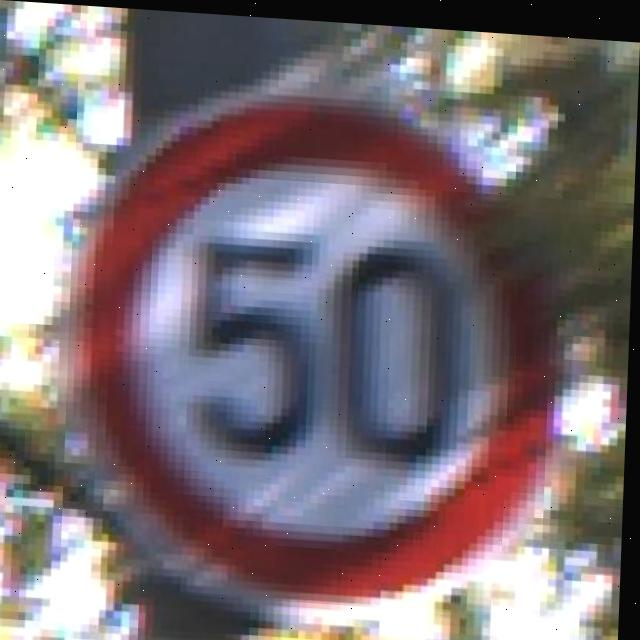Speed limit 50: (67, 79, 576, 614)
